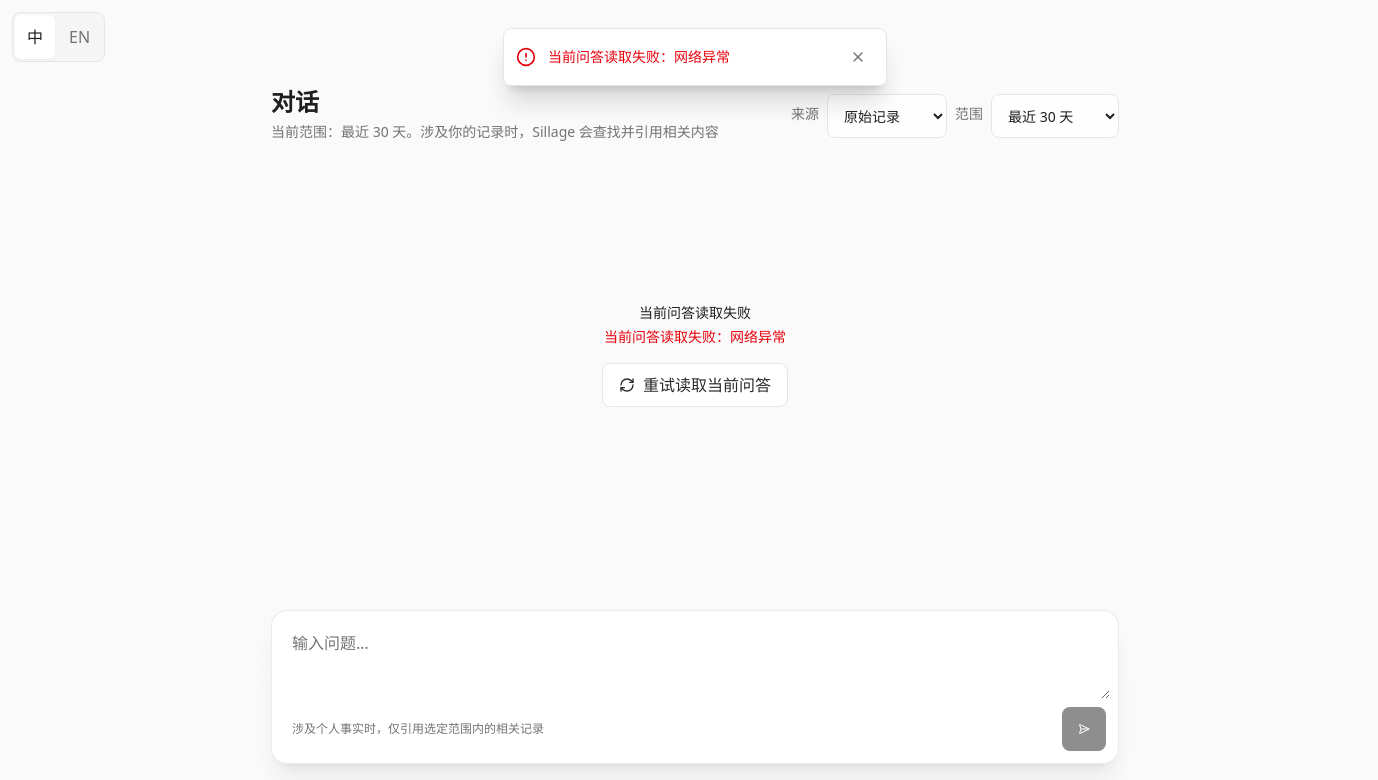
AskPage › keeps a message-load error visible and retries the active conversation
Check: the text "当前问答读取失败：网络异常" is shown 2 times, box 604,327 -> 786,347; 548,47 -> 730,66
Check: the element "当前问答读取失败" shows "当前问答读取失败：网络异常", box 604,327 -> 786,346
What coordinates should you click on to do the following:
click the button "重试读取当前问答"
I would click on:
 (695, 385)
Its box is 602,363 -> 788,407.
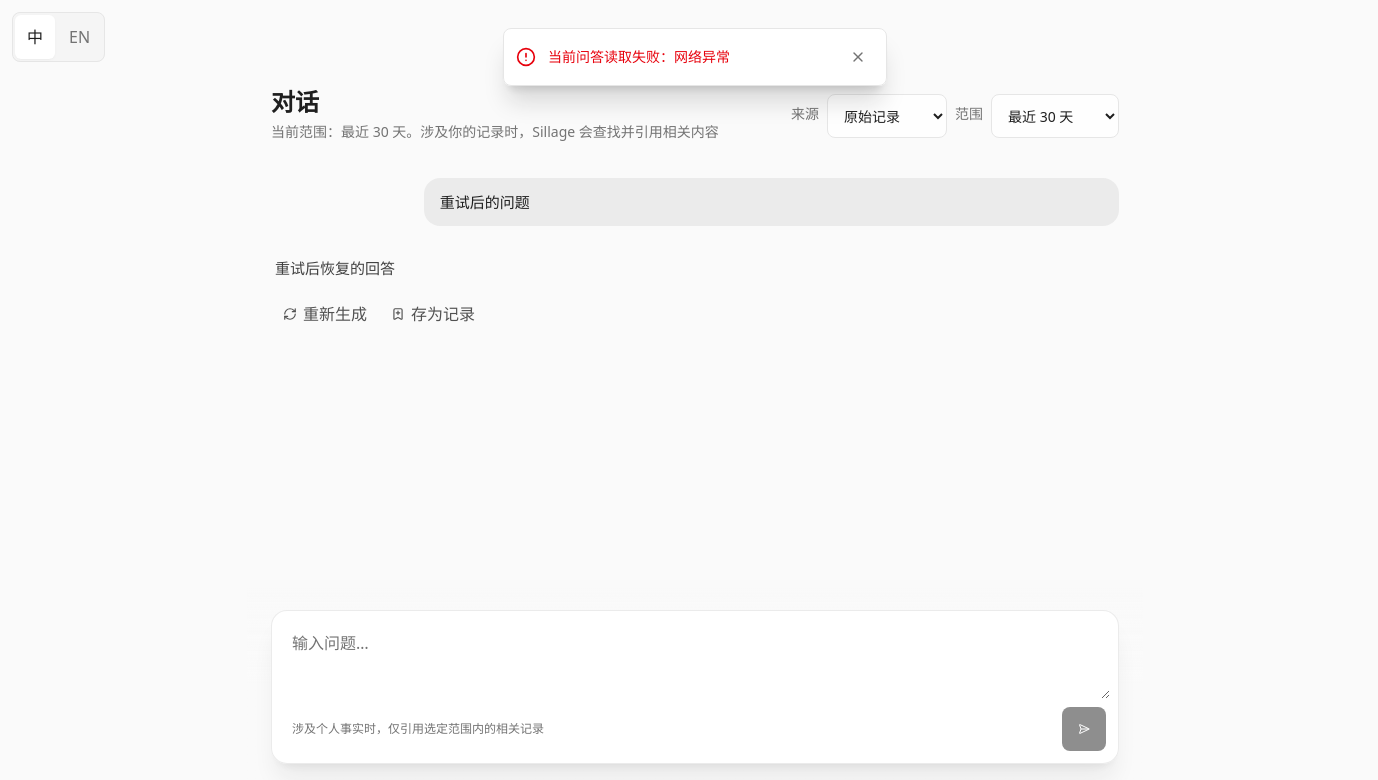
Check: the text "重试后恢复的回答" is shown, box 275,258 -> 395,278
